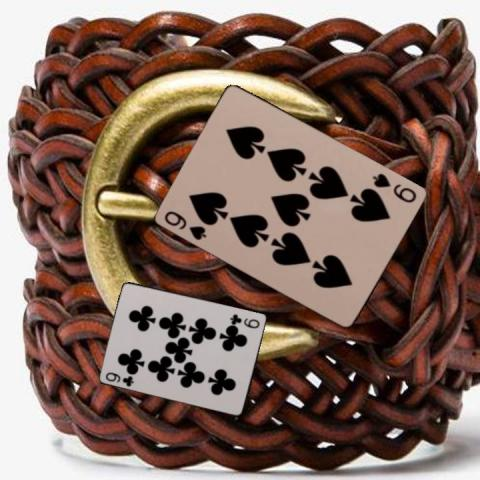9c: (228, 311, 262, 329), (103, 370, 135, 388)
9s: (370, 170, 419, 205), (161, 207, 209, 242)
